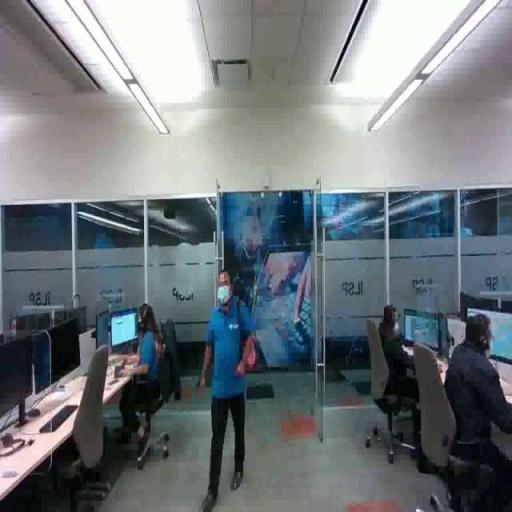person: (429, 312, 512, 512), (197, 270, 259, 512), (104, 302, 174, 462), (368, 302, 438, 450)
